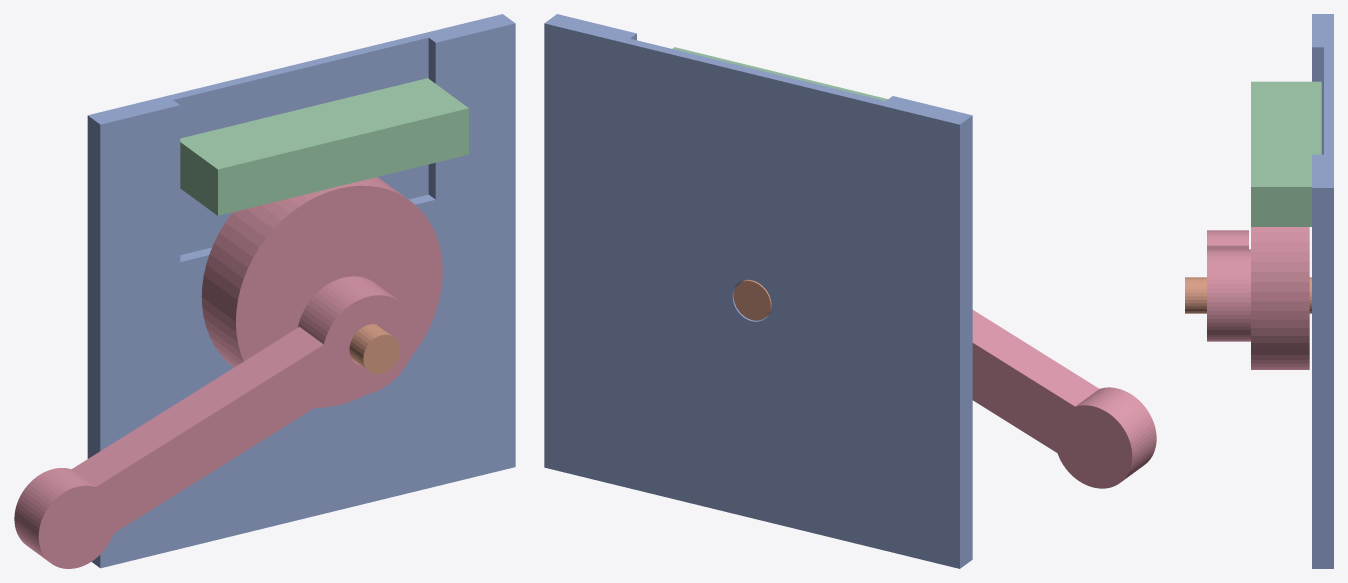
Rendered from eccentric_cam_clamp_demo.glb.
The picture shows the model from 3 angles, left to right: view 1: azimuth 30°, elevation 25°; view 2: azimuth 150°, elevation 25°; view 3: azimuth 270°, elevation 25°; orthographic projection. The views are drawn at different scales.
Visible parts, largest first — view 1: clamp_base, eccentric_cam, follower_plate, pivot_pin; view 2: clamp_base, eccentric_cam, pivot_pin; view 3: eccentric_cam, clamp_base, follower_plate, pivot_pin.
Boxes of the visible parts, x1,y1,x2,y2 form: clamp_base: [87, 14, 515, 568]; eccentric_cam: [14, 177, 442, 568]; follower_plate: [180, 78, 468, 215]; pivot_pin: [349, 324, 400, 374]; clamp_base: [544, 14, 972, 568]; eccentric_cam: [972, 310, 1156, 488]; pivot_pin: [733, 279, 771, 320]; eccentric_cam: [1207, 227, 1309, 369]; clamp_base: [1312, 14, 1333, 568]; follower_plate: [1251, 81, 1321, 226]; pivot_pin: [1185, 277, 1311, 313].
Bounding box in the file's own units: 72.82 × 57.4 × 20.3.
